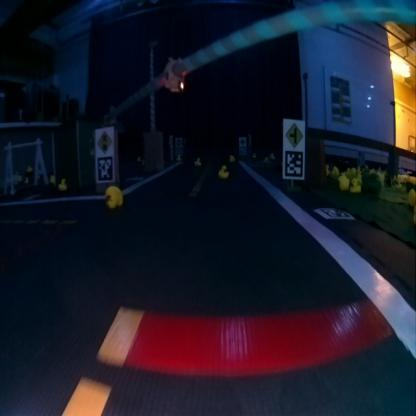Duckie: (104, 186, 122, 206), (218, 164, 228, 178), (350, 178, 360, 192), (340, 177, 348, 189), (59, 178, 65, 189), (194, 157, 200, 164)
Intersection sign: (284, 122, 304, 148)
QR code: (284, 150, 302, 175), (314, 207, 352, 218), (97, 156, 112, 179)
Signal sign: (97, 129, 112, 152)
Traffic light: (164, 58, 184, 90)
